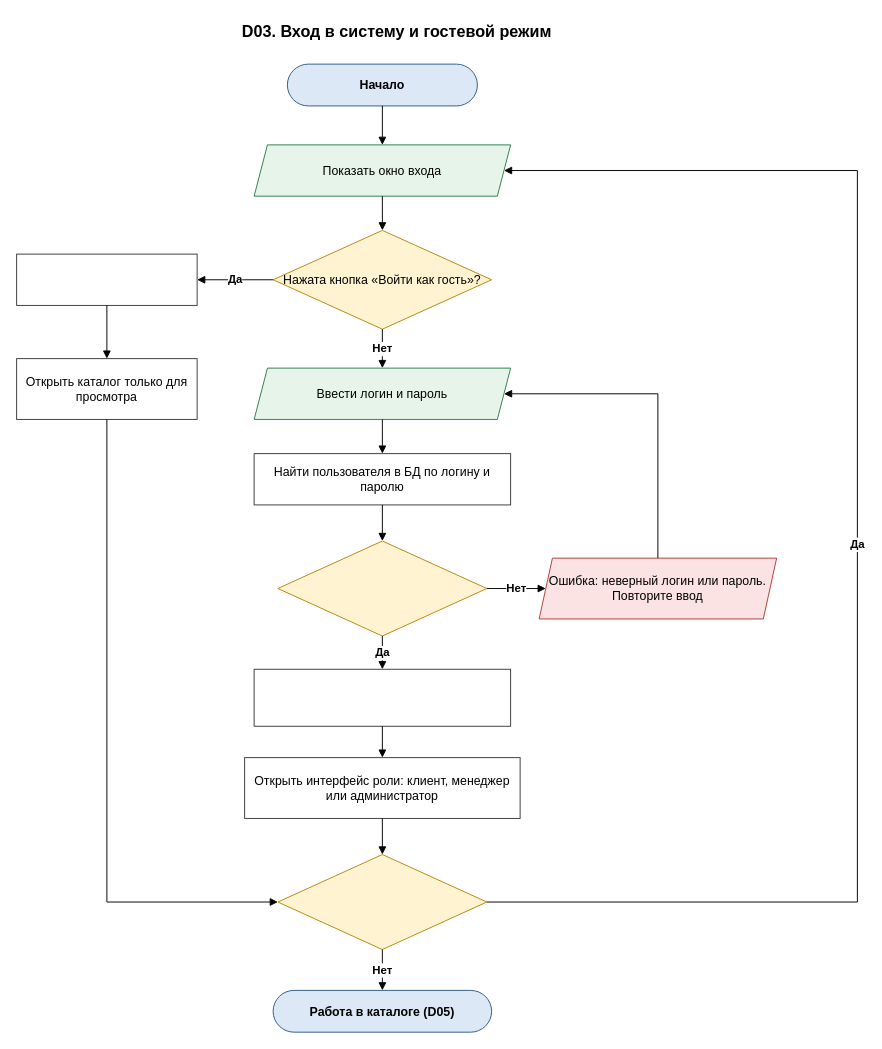
This 882x1049 diagram has some shape labels left out. Here are the shapes that lost their labels. From the top down, the box of each, then its label:
(16, 253, 197, 305): Роль = гость, ФИО не выводится
(277, 540, 487, 636): Пользователь найден?
(253, 668, 511, 726): Определить роль, вывести ФИО в правом верхнем углу
(277, 854, 487, 950): Нажата кнопка «Выйти»?
